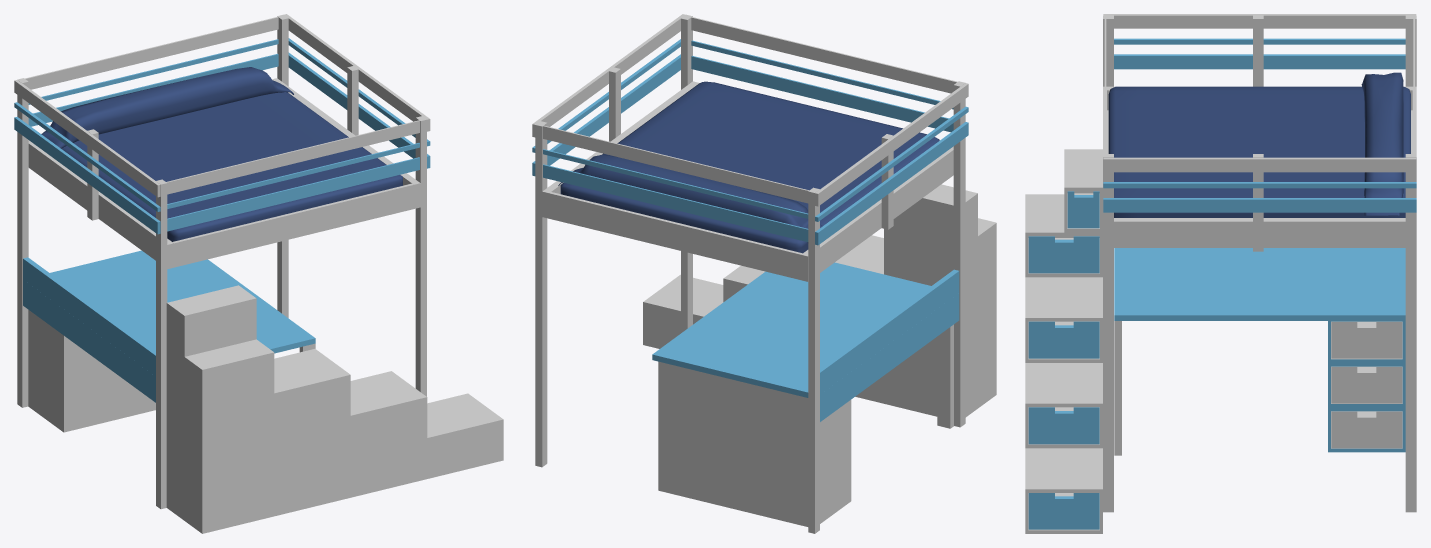
File: sh-scopia-mezzanine-bed.glb
3 views of the same model, side by side, from view 1: azimuth 30°, elevation 25°; view 2: azimuth 150°, elevation 25°; view 3: azimuth 270°, elevation 25° (orthographic). The views are drawn at different scales.
Visible parts, largest first — view 1: stair_Cube.034, drawerstairs3_Cube.042, mattress_Cube.044; view 2: stair_Cube.034, drawerstairs3_Cube.042, mattress_Cube.044; view 3: stair_Cube.034, drawerstairs3_Cube.042, mattress_Cube.044.
Boxes of the visible parts, left/top/right/bottom form: stair_Cube.034: left=14, top=14, right=503, bottom=533; drawerstairs3_Cube.042: left=14, top=38, right=430, bottom=402; mattress_Cube.044: left=41, top=67, right=402, bottom=241; stair_Cube.034: left=532, top=14, right=996, bottom=533; drawerstairs3_Cube.042: left=532, top=39, right=968, bottom=421; mattress_Cube.044: left=558, top=81, right=939, bottom=253; stair_Cube.034: left=1025, top=14, right=1416, bottom=533; drawerstairs3_Cube.042: left=1028, top=38, right=1416, bottom=529; mattress_Cube.044: left=1108, top=72, right=1410, bottom=217.
Bounding box in the file's own units: 1 × 1 × 1.
